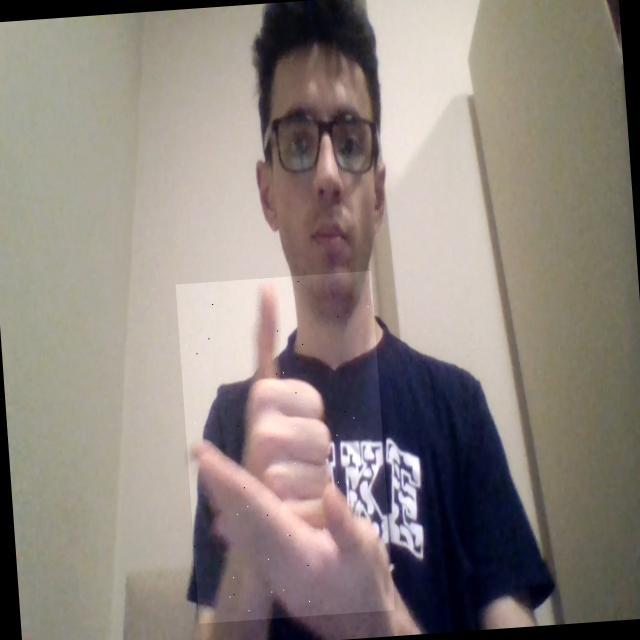help: (176, 271, 394, 624)
